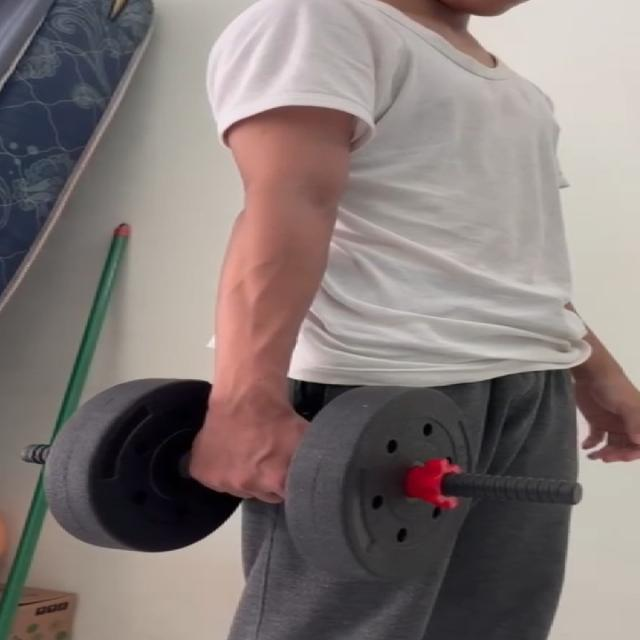hammer: (45, 376, 488, 582)
